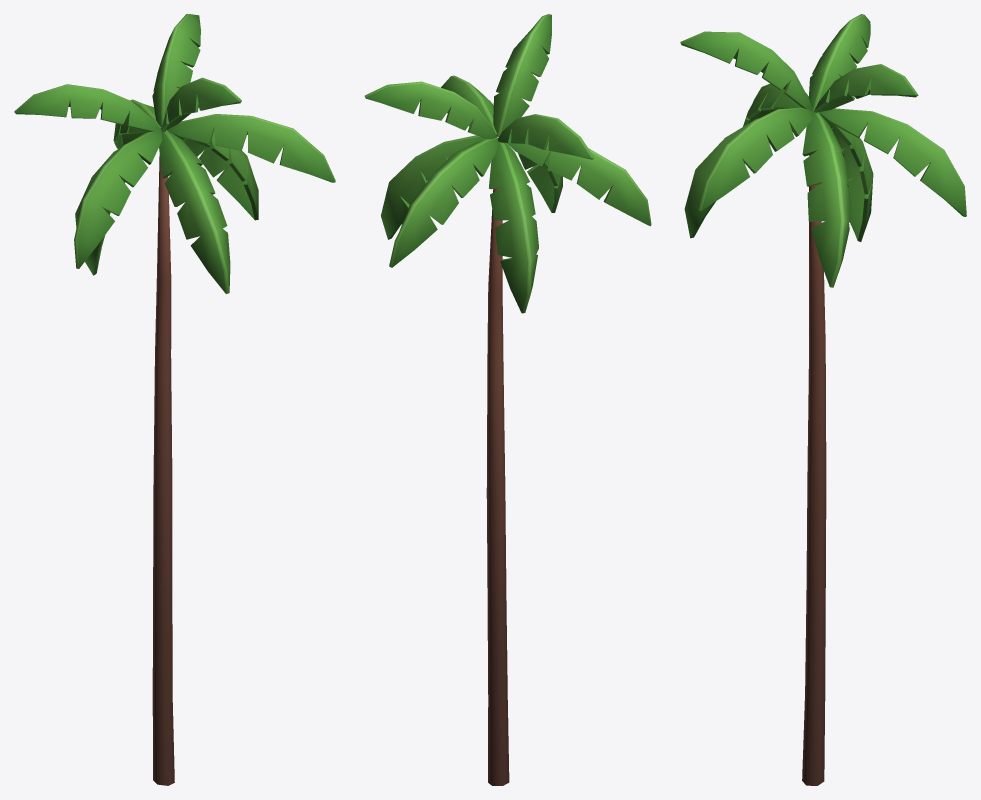
File: Palm_03.glb
3 renders of one model, left to right at view 1: azimuth 30°, elevation 25°; view 2: azimuth 150°, elevation 25°; view 3: azimuth 270°, elevation 25°, orthographic. The views are drawn at different scales.
Visible parts, largest first — view 1: Palm_03; view 2: Palm_03; view 3: Palm_03.
Part boxes in pixels (x1=…): Palm_03: x1=14, y1=14, x2=335, y2=785; Palm_03: x1=364, y1=14, x2=651, y2=785; Palm_03: x1=680, y1=14, x2=966, y2=785.
Size of the model in its own units: 7.78 by 22.67 by 7.82.
Materials: 1 (1 with a texture image).
